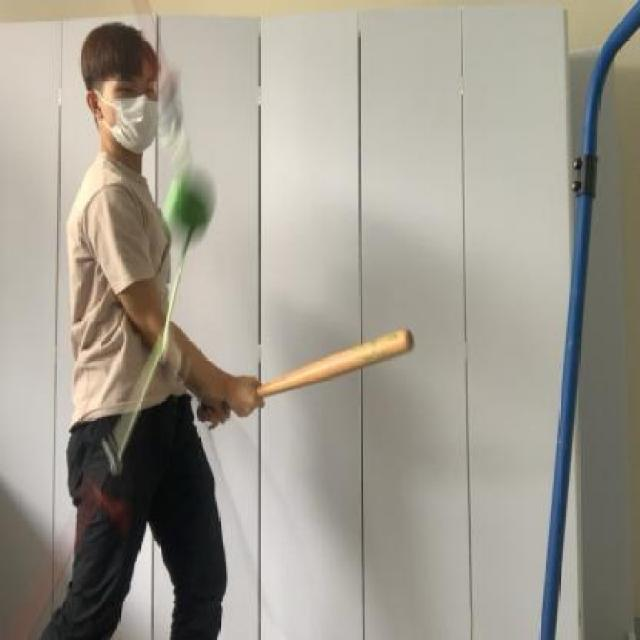baseball: (162, 166, 221, 252)
